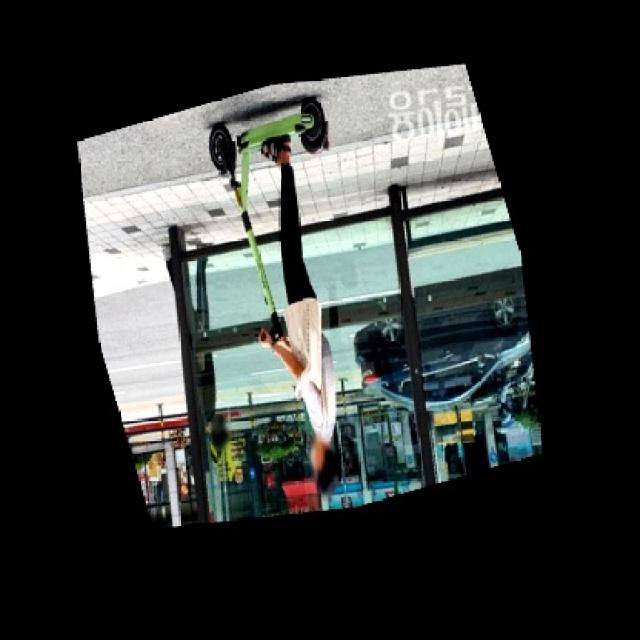bare_head: (292, 437, 348, 493)
human: (256, 129, 363, 499)
kickboard: (202, 117, 384, 155)
